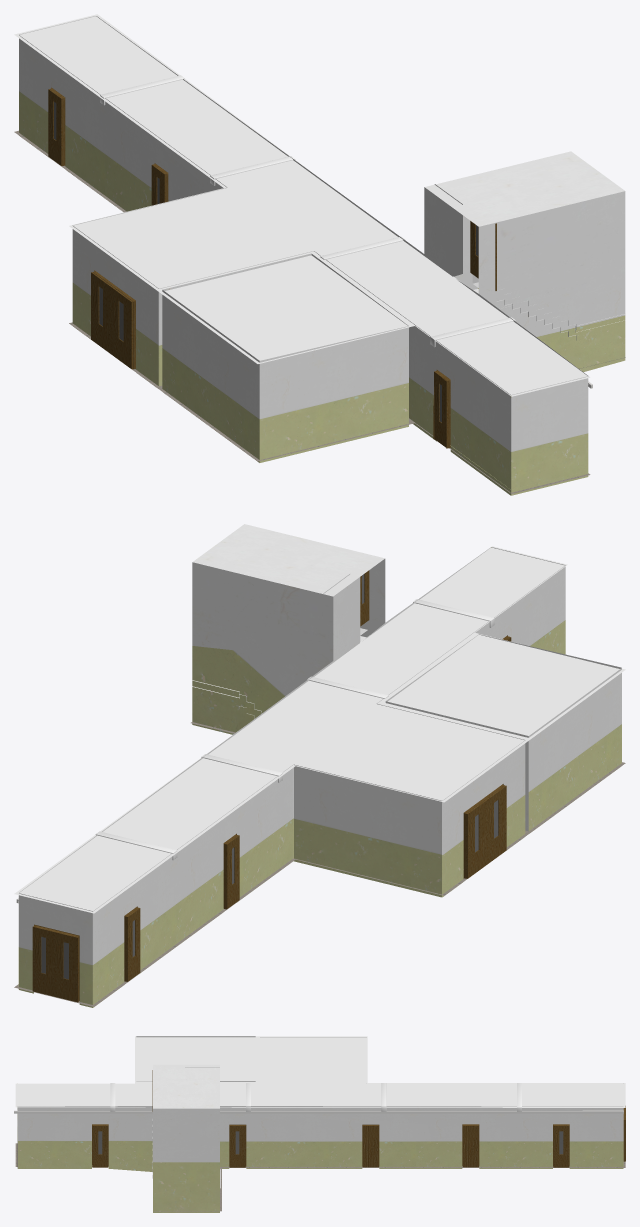
Rendered from a_hospital_corridor_in_china.glb.
3 renders of one model, top to bottom at view 1: azimuth 30°, elevation 25°; view 2: azimuth 150°, elevation 25°; view 3: azimuth 270°, elevation 25°, orthographic. The views are drawn at different scales.
Parts seen in each view (by area): view 1: wall1_20, ceiling_17, door and wood bar_22, floor_21, glass_24; view 2: wall1_20, ceiling_17, door and wood bar_22, floor_21, glass_24; view 3: wall1_20, ceiling_17, door and wood bar_22, cablewire_0, floor_21, glass_24.
Part boxes in pixels (x1,y1,x2,y2): wall1_20: (19,16,625,495); ceiling_17: (14,14,590,396); door and wood bar_22: (48,87,496,448); floor_21: (14,130,625,493); glass_24: (54,102,478,422); wall1_20: (18,524,621,1007); ceiling_17: (14,546,625,913); door and wood bar_22: (32,570,511,1002); floor_21: (14,722,625,1006); glass_24: (41,574,498,979); wall1_20: (17,1036,623,1212); ceiling_17: (15,1036,625,1107); door and wood bar_22: (92,1070,625,1167); cablewire_0: (14,1110,623,1113); floor_21: (15,1143,625,1211); glass_24: (98,1131,563,1154).
Bounding box in the file's own units: 12.75 × 5.7 × 28.6.
Materials: 9 (4 with a texture image).
